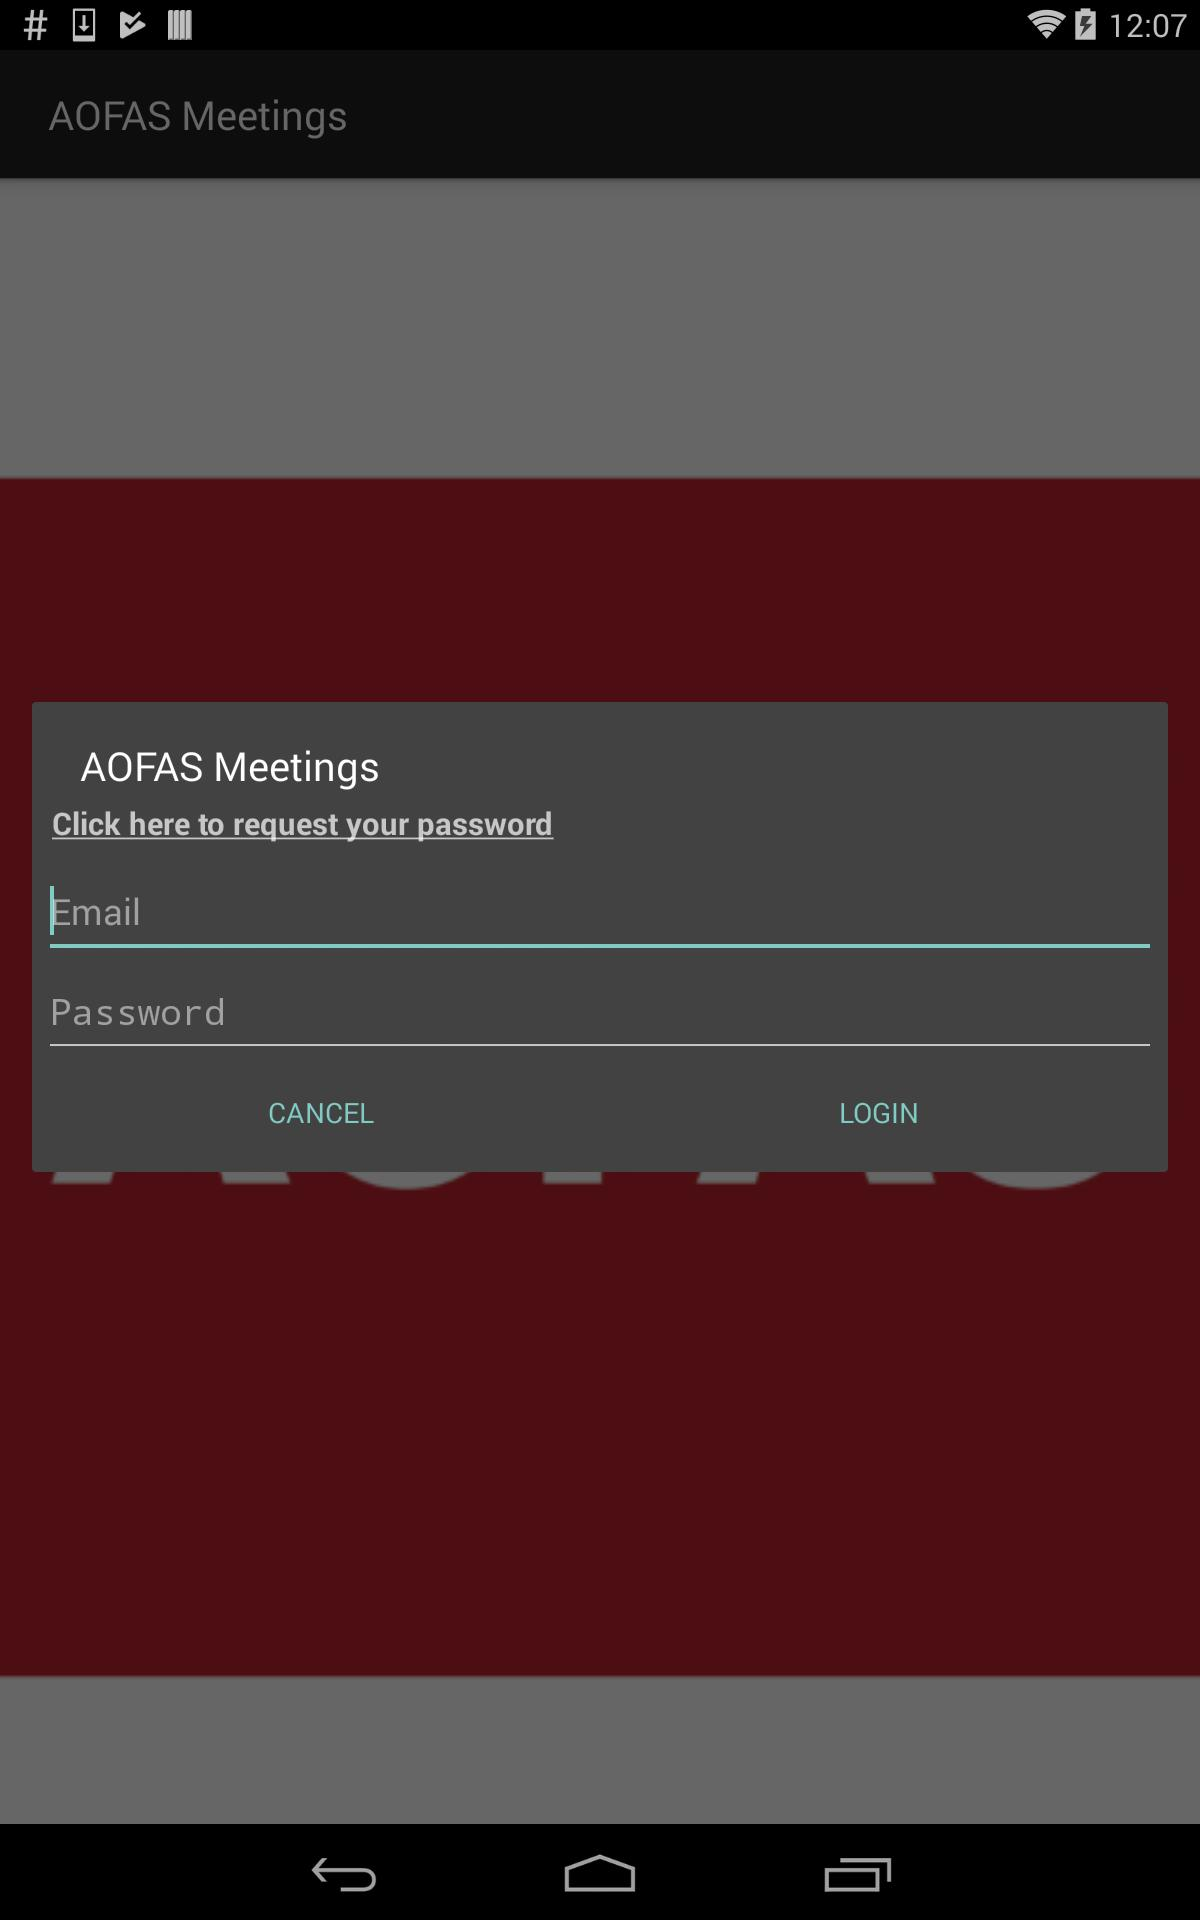android.widget.Button: (41, 1062, 600, 1163), (600, 1062, 1159, 1163)
android.widget.EditText: (41, 863, 1159, 962), (41, 962, 1159, 1062)
android.widget.FrameLayout: (0, 670, 1200, 1204), (32, 702, 1168, 1172), (32, 792, 1168, 1172)
android.widget.LinearLayout: (32, 702, 1168, 1172), (32, 792, 1168, 1172), (41, 802, 1159, 1163), (41, 1062, 1159, 1163)
android.widget.TextView: (32, 702, 1168, 792), (41, 802, 1159, 845)
